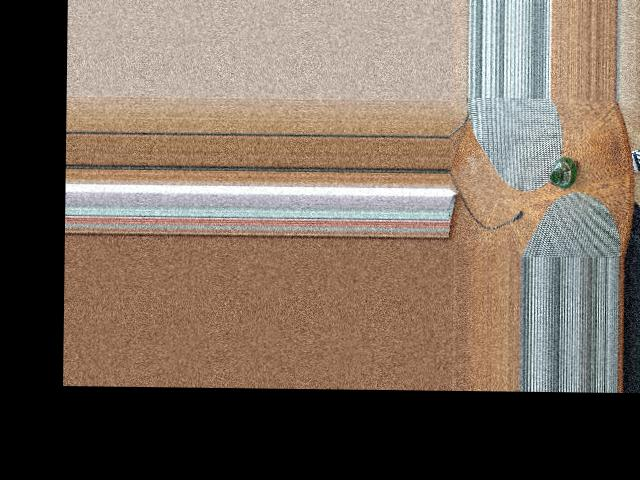beer: (550, 156, 580, 188)
